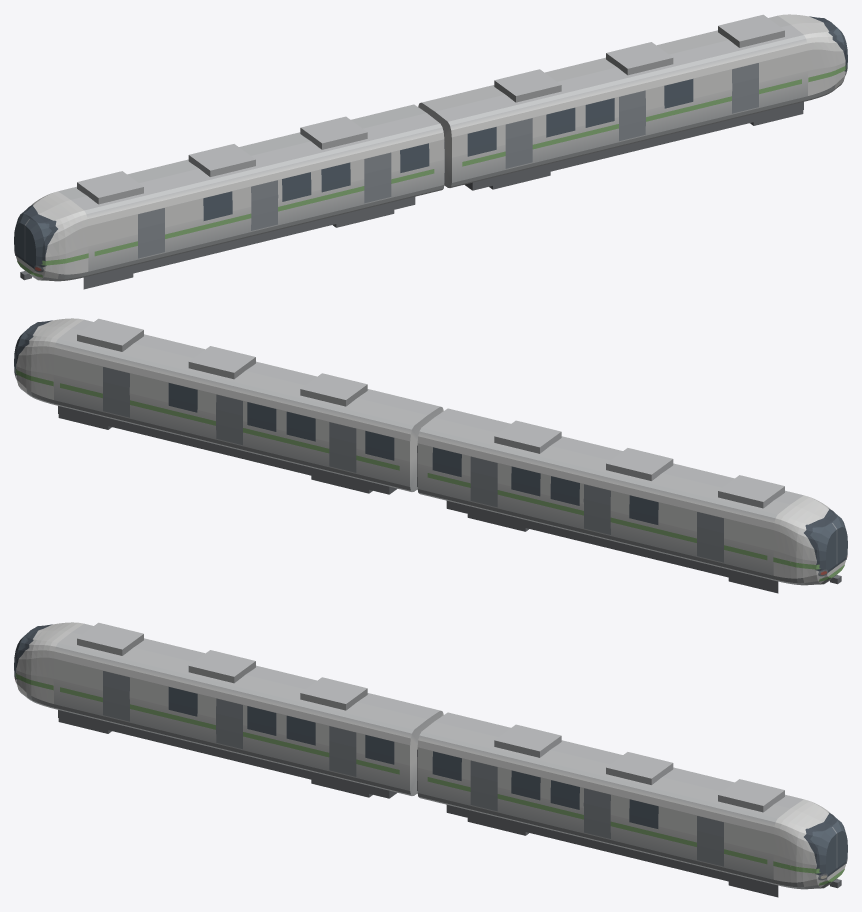
Rendered from 01_TRA_modern_3x2-05.glb.
3 views of the same model, one above another, from view 1: azimuth 30°, elevation 25°; view 2: azimuth 150°, elevation 25°; view 3: azimuth 330°, elevation 25° (orthographic).
Size of the model in its own units: 39.48 by 3.98 by 2.94.
